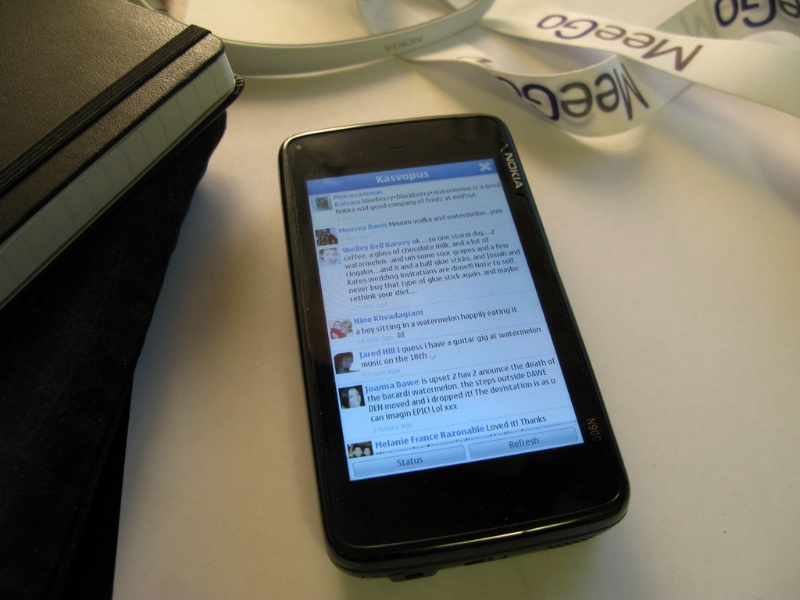cellphone: (273, 108, 638, 584)
